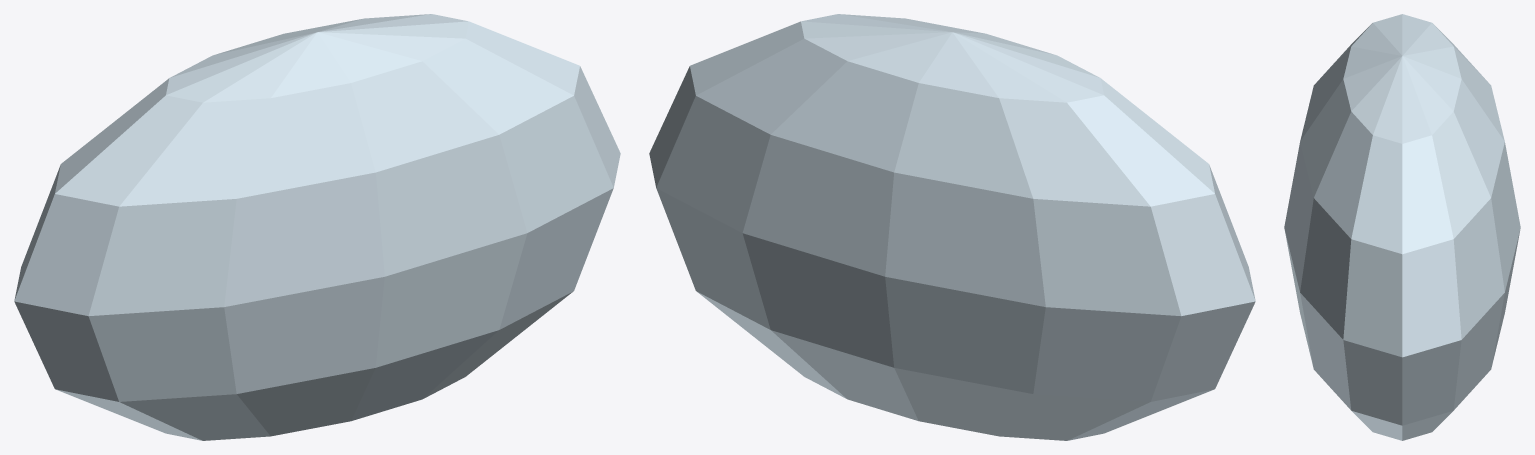
File: cubrebocas.glb
3 views of the same model, side by side, from view 1: azimuth 30°, elevation 25°; view 2: azimuth 150°, elevation 25°; view 3: azimuth 270°, elevation 25° (orthographic). The views are drawn at different scales.
Parts seen in each view (by area): view 1: cubrebocas; view 2: cubrebocas; view 3: cubrebocas.
Part boxes in pixels (x1=…): cubrebocas: x1=14, y1=14, x2=620, y2=440; cubrebocas: x1=649, y1=14, x2=1255, y2=440; cubrebocas: x1=1284, y1=14, x2=1520, y2=440.
Bounding box in the file's own units: 0.195 × 0.12 × 0.075.
